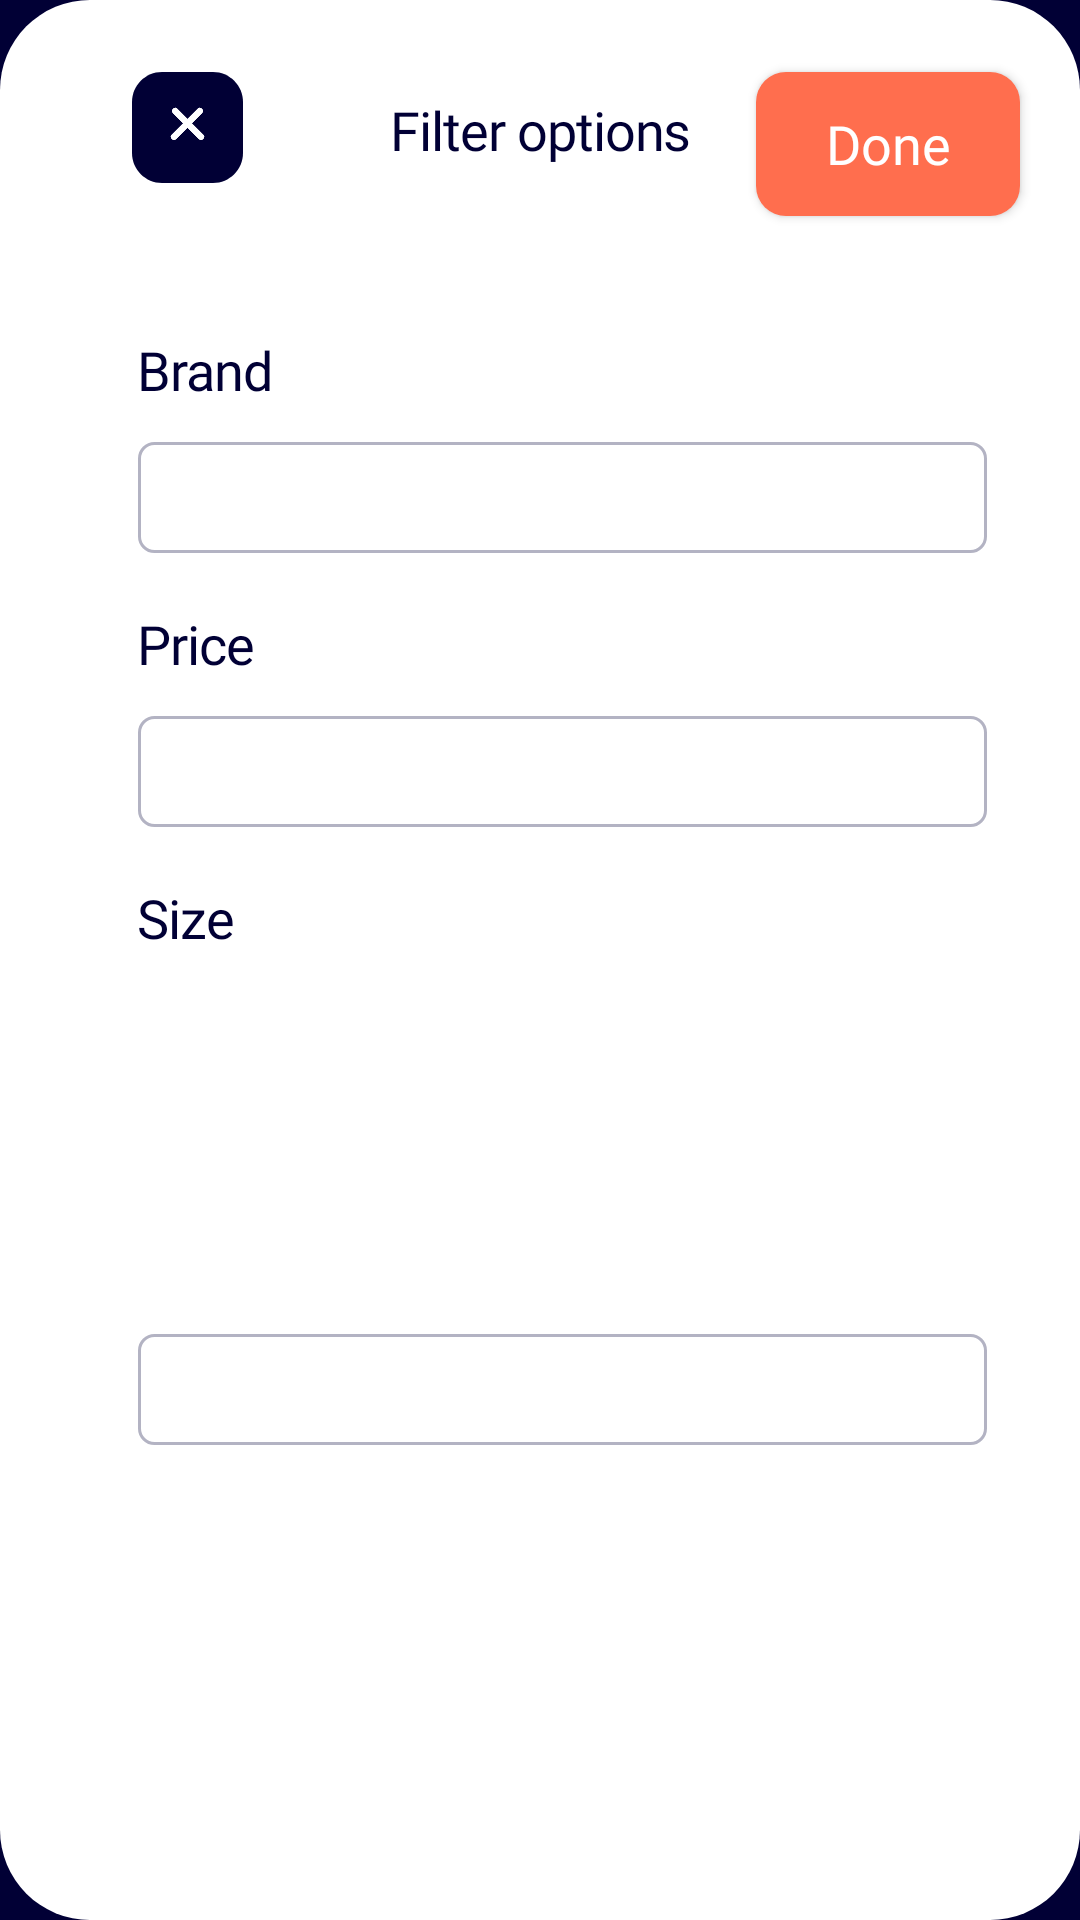

Icon click points for this 1080x1920 phone screenshot, format point (x, y):
close: point (187, 127)
